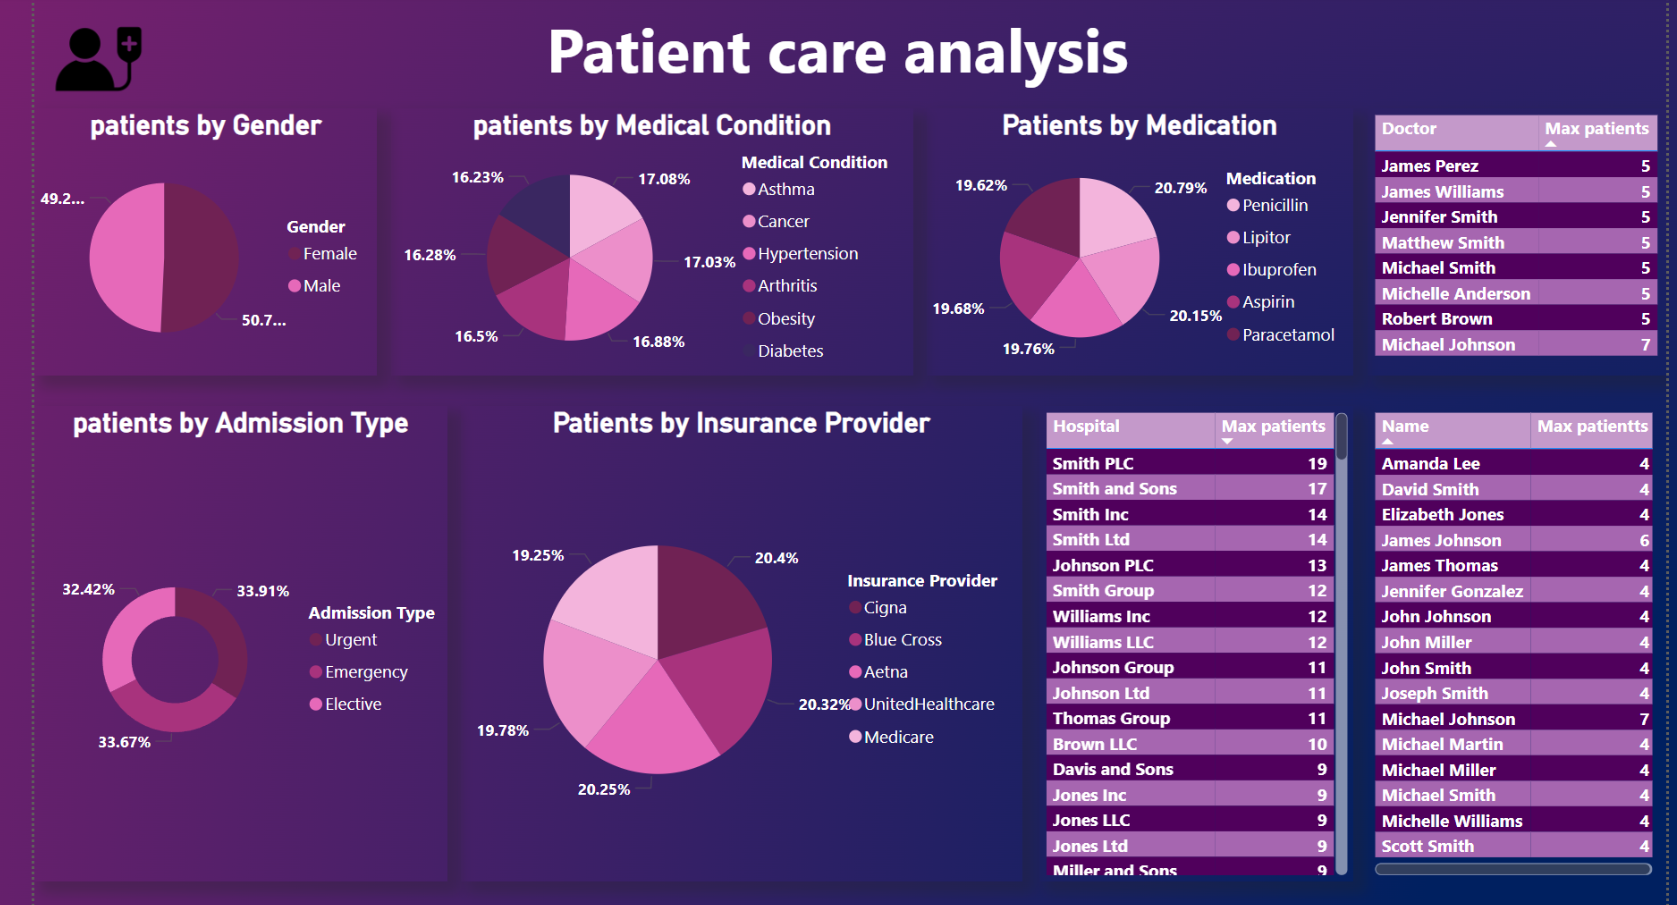

This screenshot's page, from the dashboard's own definition file:
{"tool":"powerbi","page":{"name":"patient analysis","canvas":[1280,720],"ordinal":1},"visuals":[{"type":"pieChart","title":"patients by Gender","fields":{"Y":["healthcare_dataset.ID"],"Category":["healthcare_dataset.Gender"]},"box":[0,88,268.9,209],"z":0},{"type":"pieChart","title":"patients by Medical Condition","fields":{"Y":["healthcare_dataset.ID"],"Category":["healthcare_dataset.Medical Condition"]},"box":[279.9,88,409.5,209],"z":1000},{"type":"pieChart","title":"Patients by Medication","fields":{"Y":["healthcare_dataset.ID"],"Category":["healthcare_dataset.Medication"]},"box":[699.2,88,334.9,209],"z":2000},{"type":"tableEx","fields":{"Values":["healthcare_dataset.Doctor","healthcare_dataset.ID"]},"box":[1045.2,88,234.7,209],"z":3000},{"type":"tableEx","fields":{"Values":["healthcare_dataset.Name","healthcare_dataset.ID"]},"box":[1045.2,321.5,228.6,372.8],"z":4000},{"type":"donutChart","title":"patients by Admission Type","fields":{"Category":["healthcare_dataset.Admission Type"],"Y":["healthcare_dataset.ID"]},"box":[0,321.5,323.9,372.8],"z":5000},{"type":"pieChart","title":"Patients by Insurance Provider","fields":{"Category":["healthcare_dataset.Insurance Provider"],"Y":["healthcare_dataset.ID"]},"box":[334.9,321.5,440.1,372.8],"z":6000},{"type":"tableEx","fields":{"Values":["healthcare_dataset.Hospital","healthcare_dataset.ID"]},"box":[787.2,321.5,246.9,372.8],"z":7000},{"type":"textbox","box":[396.1,3.7,487.7,74.6],"z":8000},{"type":"image","box":[0,0,100.2,99],"z":9000}]}

Visuals, with their boxes on the page's 1280x720 design canvas (x1, y1, x2, y2). These are canvas units, not pixel positions in the 1677x905 screenshot, which may show the page scaled, cropped or inside an application window:
"patients by Gender" pieChart: [0,88,269,297]
"patients by Medical Condition" pieChart: [280,88,689,297]
"Patients by Medication" pieChart: [699,88,1034,297]
tableEx - healthcare_dataset.Doctor x healthcare_dataset.ID: [1045,88,1280,297]
tableEx - healthcare_dataset.Name x healthcare_dataset.ID: [1045,322,1274,694]
"patients by Admission Type" donutChart: [0,322,324,694]
"Patients by Insurance Provider" pieChart: [335,322,775,694]
tableEx - healthcare_dataset.Hospital x healthcare_dataset.ID: [787,322,1034,694]
textbox: [396,4,884,78]
image: [0,0,100,99]
